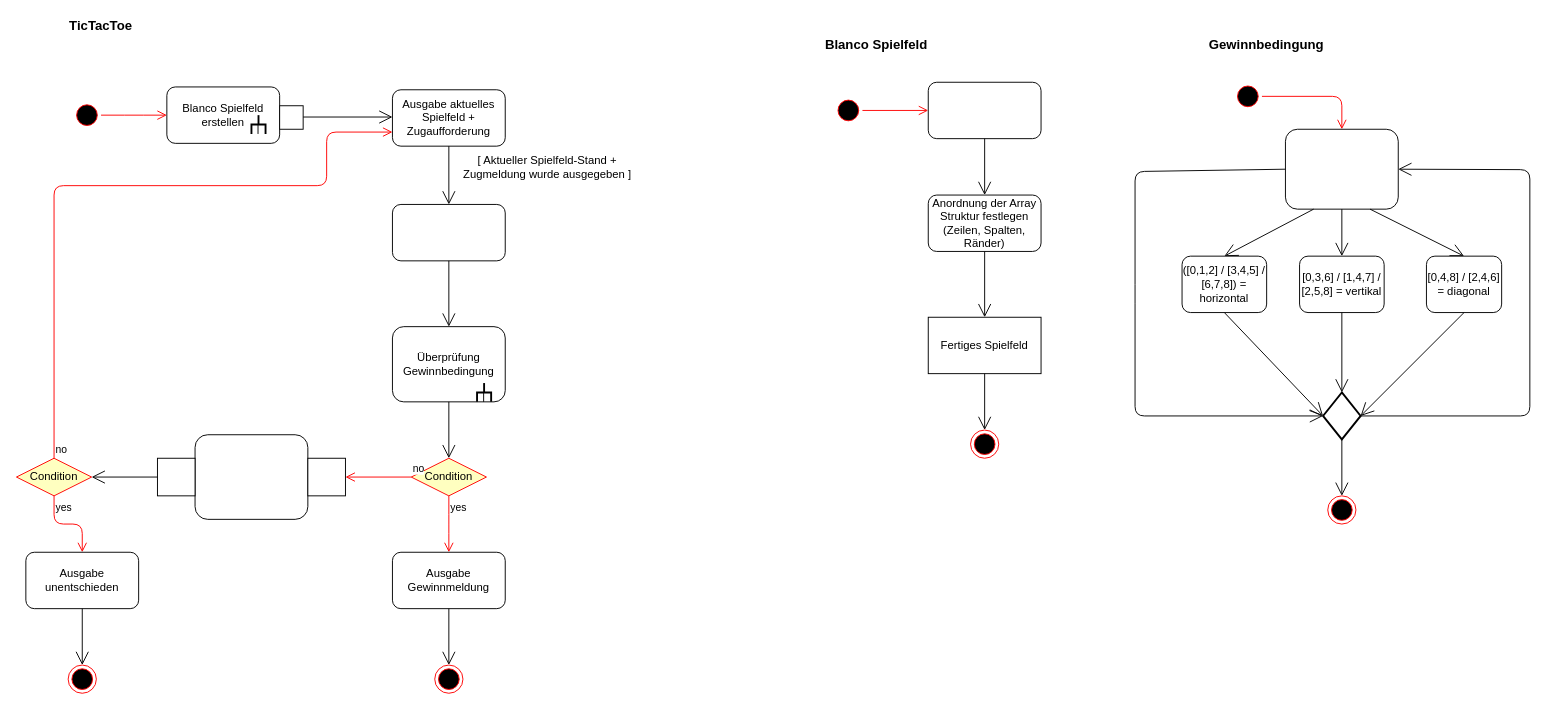
Some shapes in this 1559 by 710 pixel diagram are drawn without their labels. The centre of each missing label's shape, as x and y in pixels:
Blanco Feld: pixel 326 476
Erzeugung Array mit Wertebereich 9: pixel 984 110
True False: pixel 176 476
Tätigung Spielzug eines Spielers: pixel 448 232
Überprüfung Array Indizes nach Gewinnbedingung: pixel 1341 168
Überprüfung ob Spielfeld voll (vergleich Blanco Feld mit momentanem): pixel 251 476
